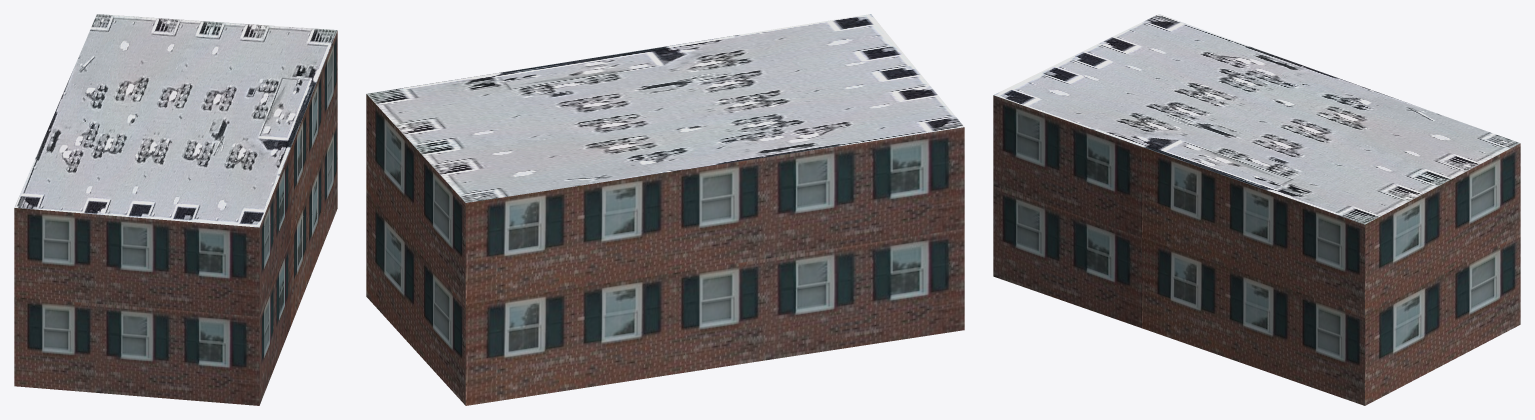
File: ResTex__2133.fbx
The picture shows the model from 3 angles, left to right: view 1: azimuth 30°, elevation 25°; view 2: azimuth 150°, elevation 25°; view 3: azimuth 270°, elevation 25°; orthographic projection. The views are drawn at different scales.
Visible parts, largest first — view 1: CityEngineMaterial_14_m, CityEngineMaterial_8_m; view 2: CityEngineMaterial_14_m, CityEngineMaterial_8_m; view 3: CityEngineMaterial_14_m, CityEngineMaterial_8_m.
Part boxes in pixels (left/top/right/bottom): CityEngineMaterial_14_m: left=14, top=31, right=337, bottom=405; CityEngineMaterial_8_m: left=14, top=14, right=337, bottom=227; CityEngineMaterial_14_m: left=366, top=94, right=964, bottom=405; CityEngineMaterial_8_m: left=366, top=14, right=964, bottom=202; CityEngineMaterial_14_m: left=993, top=95, right=1520, bottom=405; CityEngineMaterial_8_m: left=993, top=14, right=1520, bottom=224.
Size of the model in its own units: 14.95 by 6 by 15.82.
Materials: 2 (2 with a texture image).
